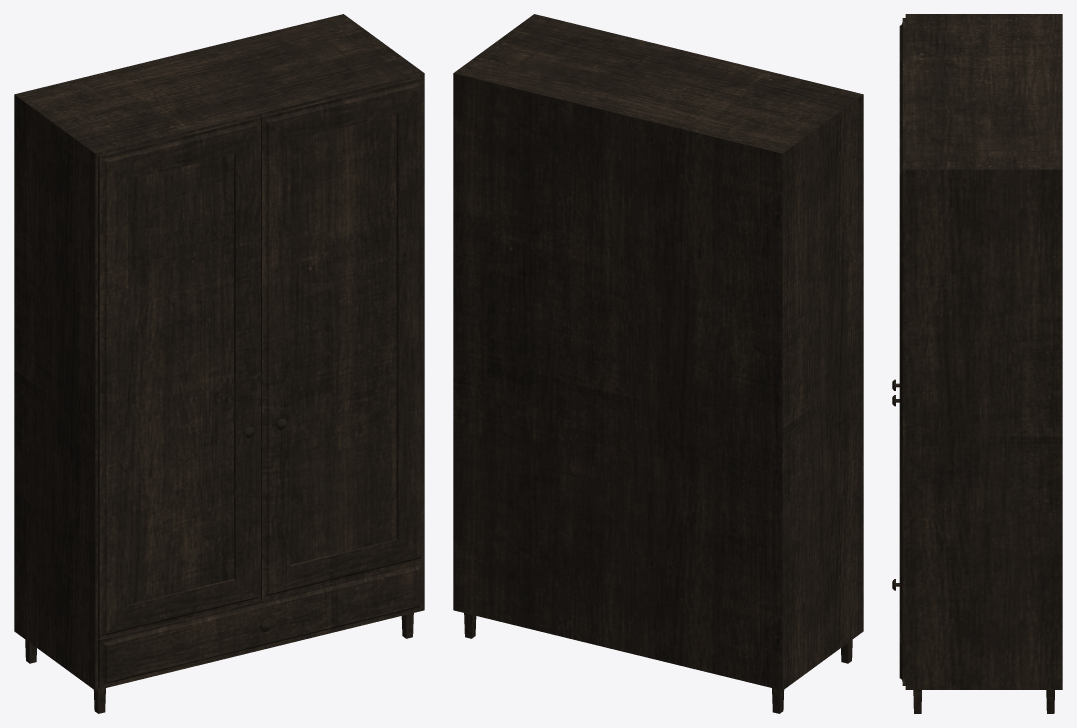
File: wardrobe_mp_1_2.dae
3 renders of one model, left to right at view 1: azimuth 30°, elevation 25°; view 2: azimuth 150°, elevation 25°; view 3: azimuth 270°, elevation 25°, orthographic. The views are drawn at different scales.
Visible parts, largest first — view 1: wardrobe_mp_1_2, wardrobe_mp_1_2_drawer; view 2: wardrobe_mp_1_2; view 3: wardrobe_mp_1_2, wardrobe_mp_1_2_drawer.
Part boxes in pixels (box(x1,y1,x2,y2)): wardrobe_mp_1_2: box(14, 14, 424, 713); wardrobe_mp_1_2_drawer: box(98, 561, 423, 688); wardrobe_mp_1_2: box(453, 14, 863, 713); wardrobe_mp_1_2: box(892, 14, 1062, 713); wardrobe_mp_1_2_drawer: box(892, 579, 905, 685).
Bounding box in the file's own units: 1.22 × 0.5645 × 2.
1 material, 1 textured.
